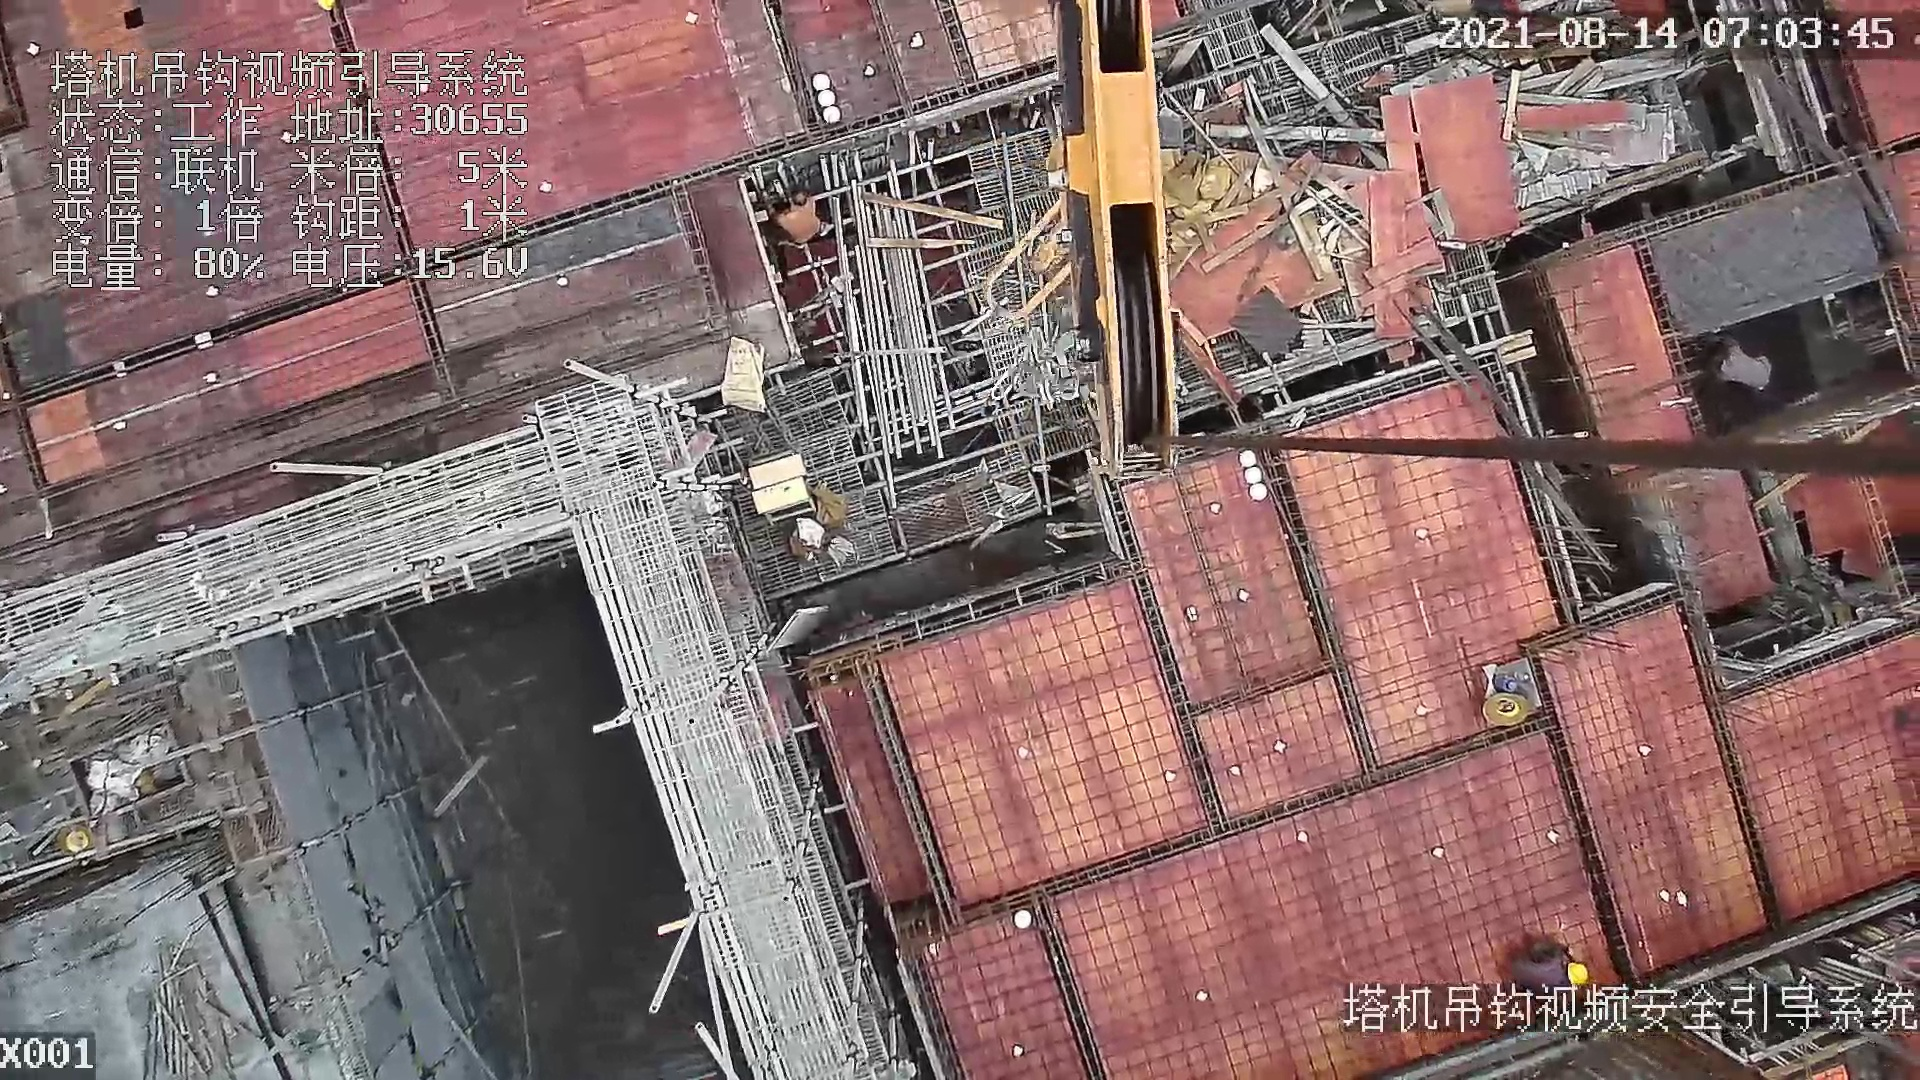helmet: (1566, 957, 1587, 988)
hook: (985, 18, 1188, 473)
person: (1713, 334, 1786, 405), (1517, 942, 1595, 992), (772, 184, 831, 247)
